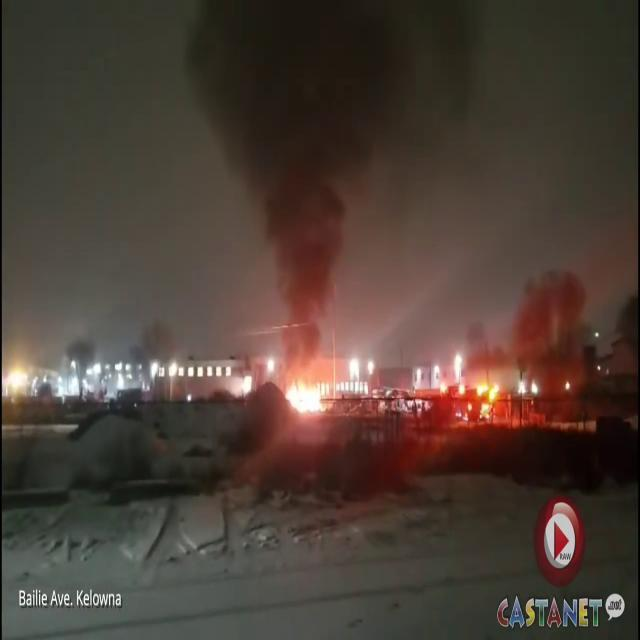Fire: (272, 369, 336, 421)
Smoke: (179, 0, 443, 344)
